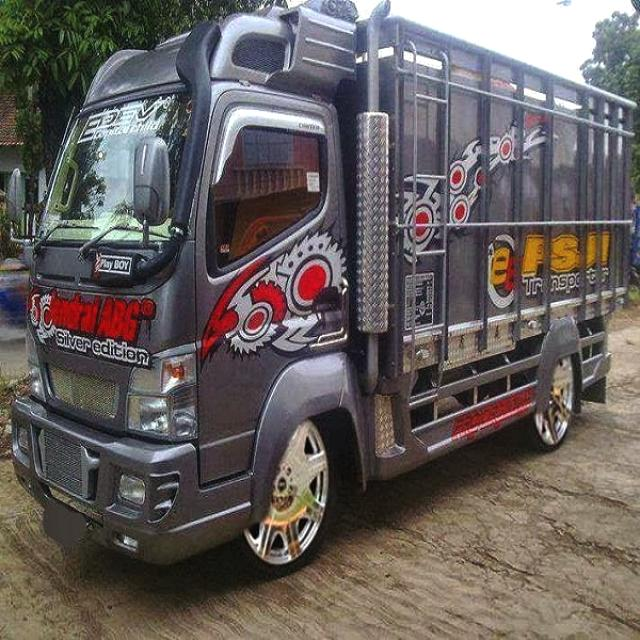truck: (1, 1, 640, 584)
